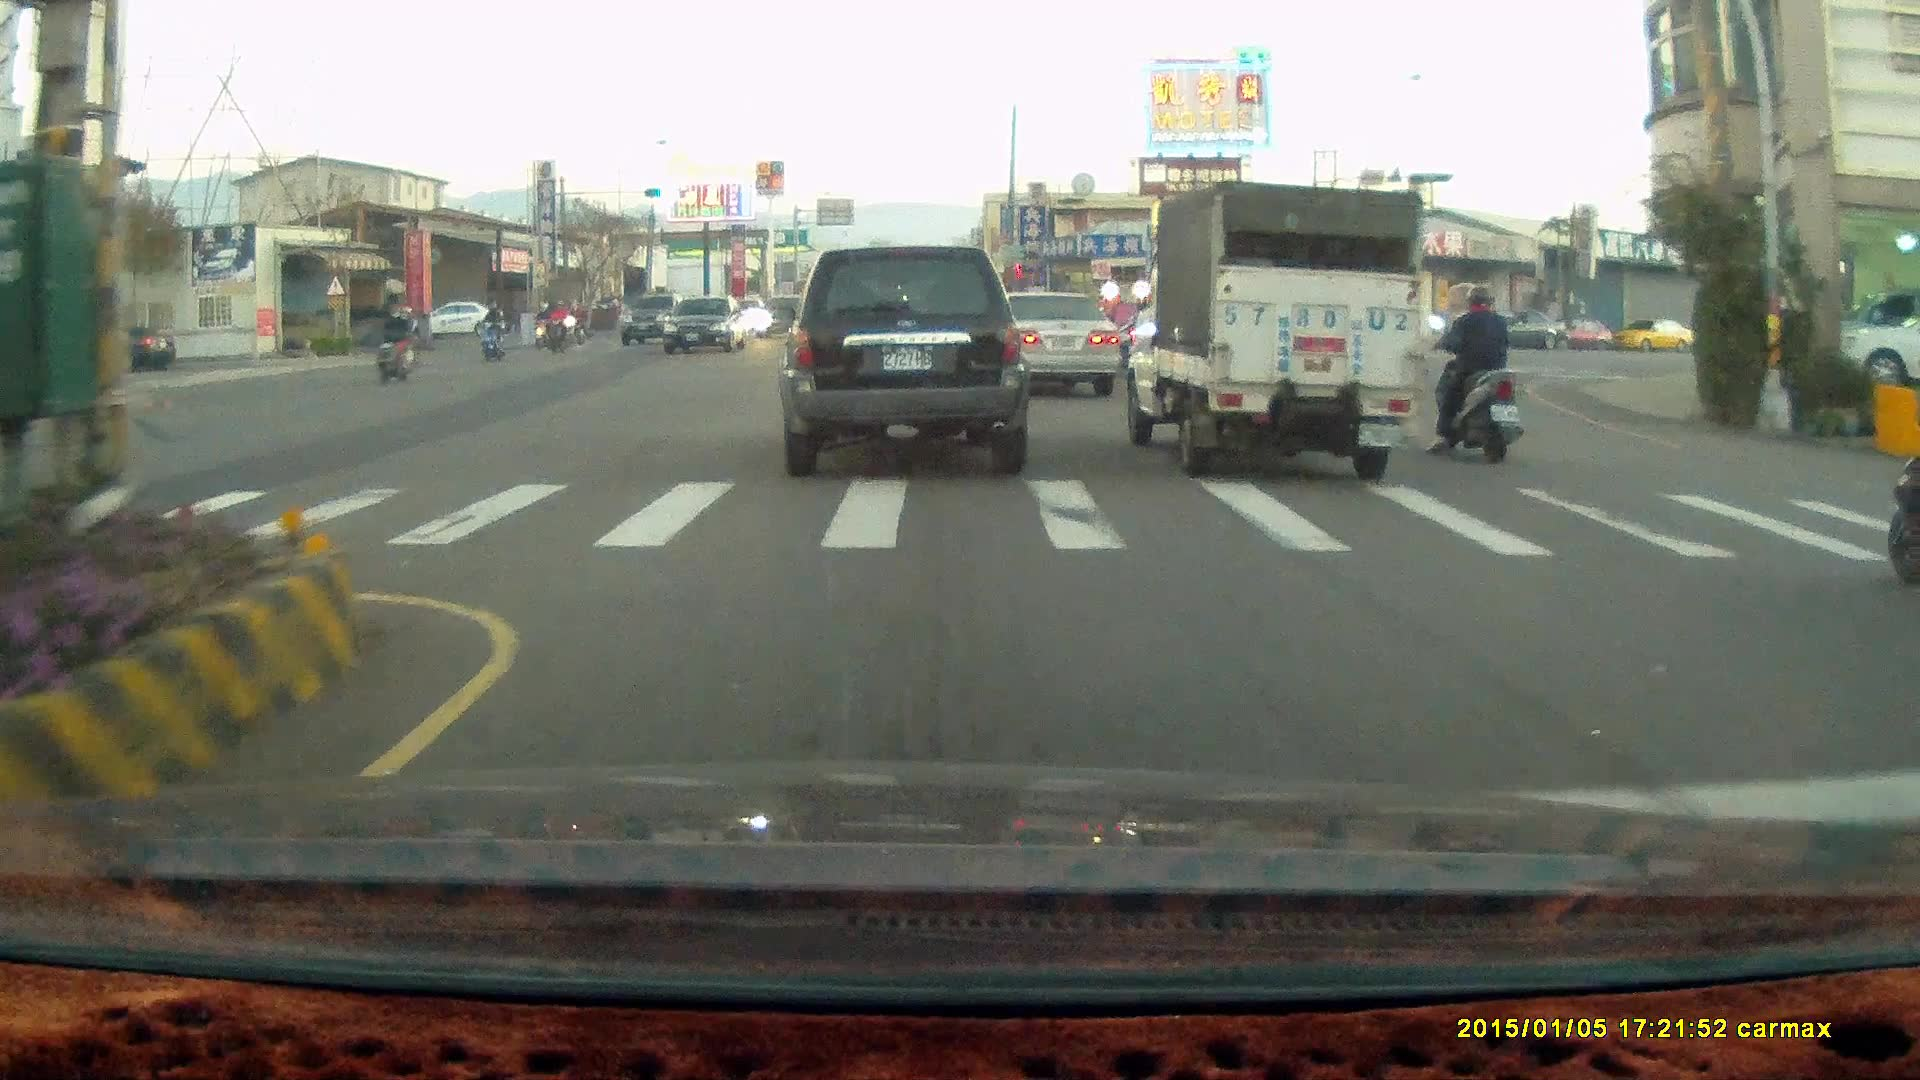rider: (1422, 280, 1523, 467), (376, 308, 414, 381), (476, 300, 504, 362), (543, 297, 571, 353), (532, 299, 560, 349)
vehicle: (1121, 177, 1422, 476), (774, 244, 1029, 477), (979, 290, 1125, 399), (978, 289, 1117, 395), (27, 314, 121, 401), (1839, 305, 1920, 389), (660, 294, 750, 357), (1464, 310, 1571, 354), (428, 301, 506, 340), (1553, 319, 1616, 352)
